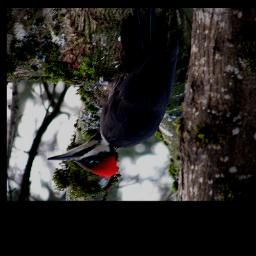Woodpecker: (45, 13, 186, 179)
